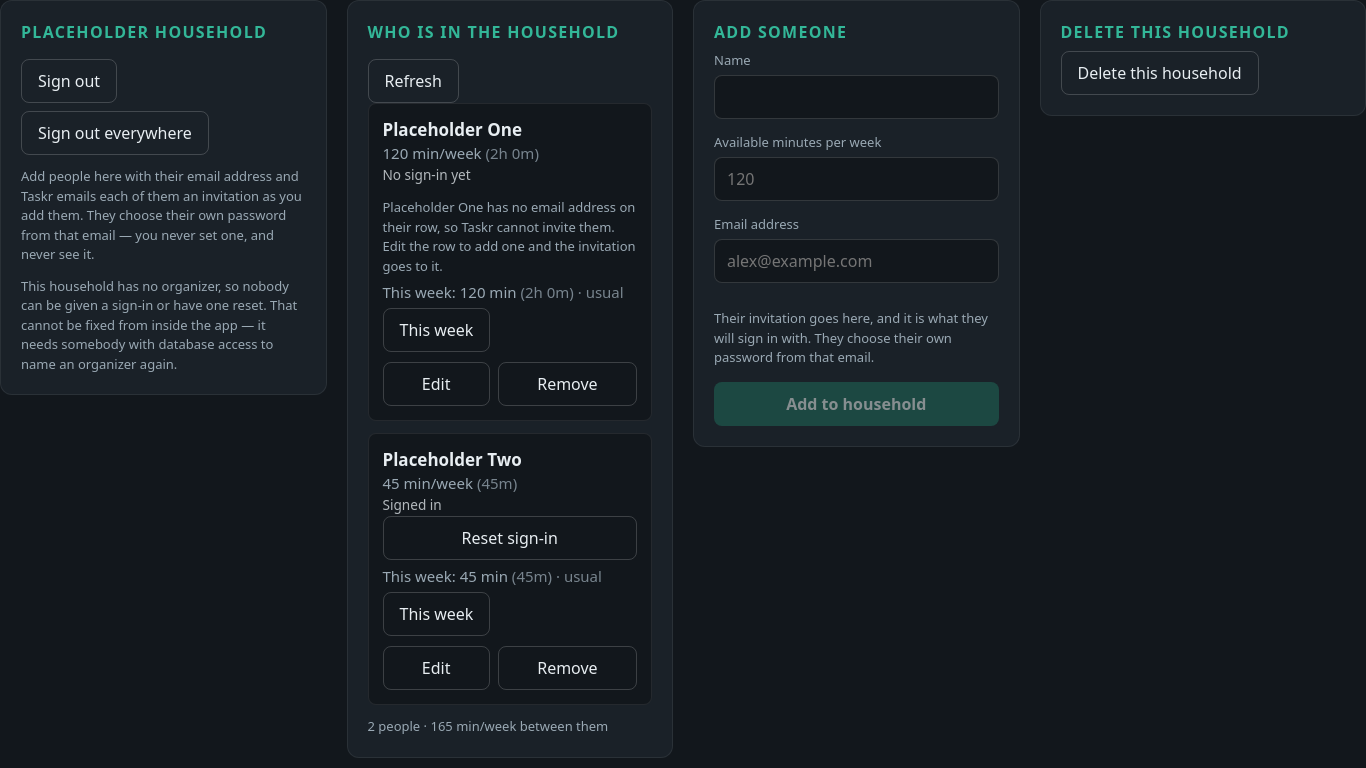
Test: deleting the household from the Who tab (#430) › says what goes and that it can be undone for the grace period, before asking again
The image size is (1366, 768).
Click the button "Delete this household". click: (1160, 73)
box: [1060,51,1259,95]
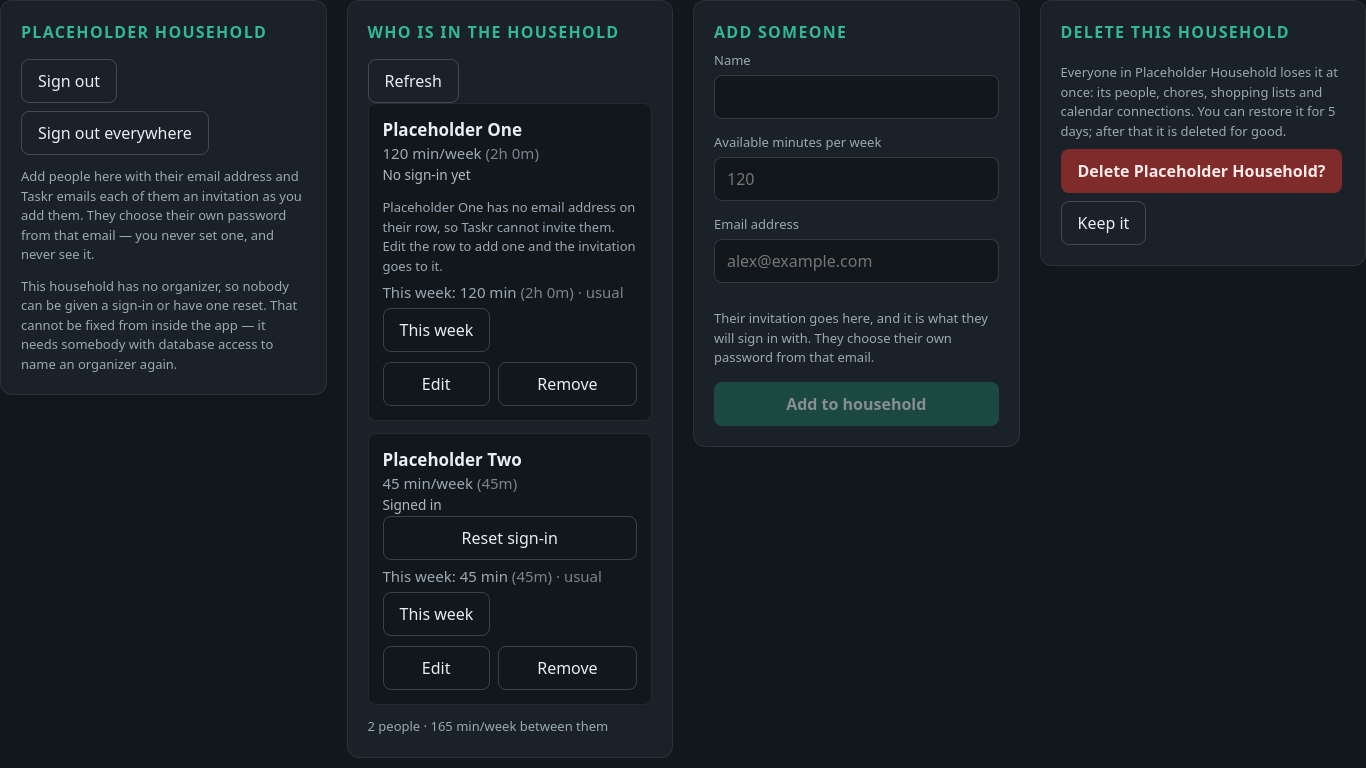
Result: the text with test id "delete-household-warning" shows "Placeholder Household" at [1135,63,1277,81]
Result: the text with test id "delete-household-warning" shows "people, chores" at [1060,63,1338,120]
Result: the text with test id "delete-household-warning" shows "calendar connections" at [1060,63,1338,120]
